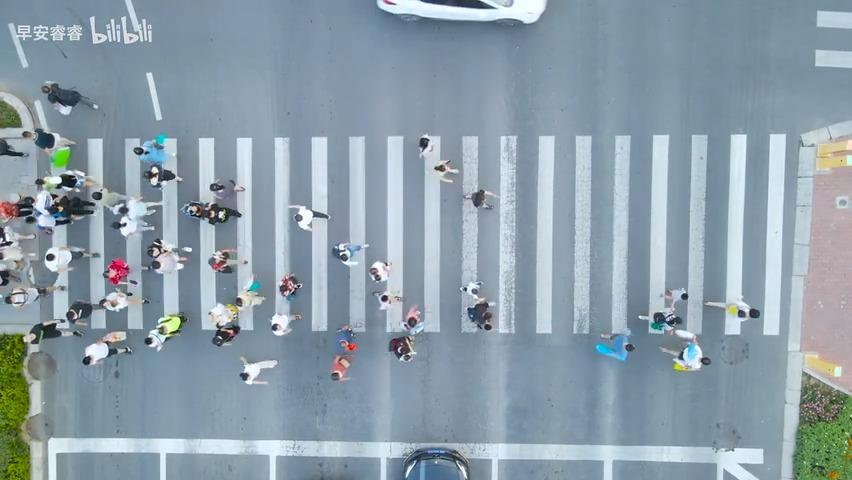Civilian: (42, 243, 103, 278), (658, 334, 710, 371), (41, 82, 99, 115), (82, 331, 133, 366), (144, 313, 189, 352), (146, 237, 192, 274), (3, 281, 61, 310), (21, 318, 84, 344), (34, 169, 100, 193), (128, 137, 188, 163), (180, 200, 242, 225), (106, 212, 163, 237), (25, 206, 78, 231), (224, 284, 273, 311), (44, 193, 92, 220), (21, 128, 76, 151), (57, 297, 99, 327), (703, 299, 760, 321), (594, 331, 635, 361), (114, 195, 163, 220), (98, 288, 149, 312), (287, 204, 330, 232), (238, 355, 278, 385), (142, 162, 183, 189), (396, 305, 427, 338), (209, 322, 248, 348), (102, 258, 138, 286), (207, 248, 247, 273), (332, 322, 361, 356), (331, 242, 369, 266), (466, 299, 495, 330), (651, 308, 682, 334), (269, 312, 302, 336), (209, 178, 245, 200), (388, 335, 417, 362), (462, 188, 499, 209), (371, 290, 405, 310), (661, 287, 688, 311), (278, 272, 302, 298), (433, 159, 459, 183), (330, 353, 352, 381), (0, 137, 29, 157), (368, 260, 392, 283), (459, 280, 484, 301), (417, 134, 433, 158)
